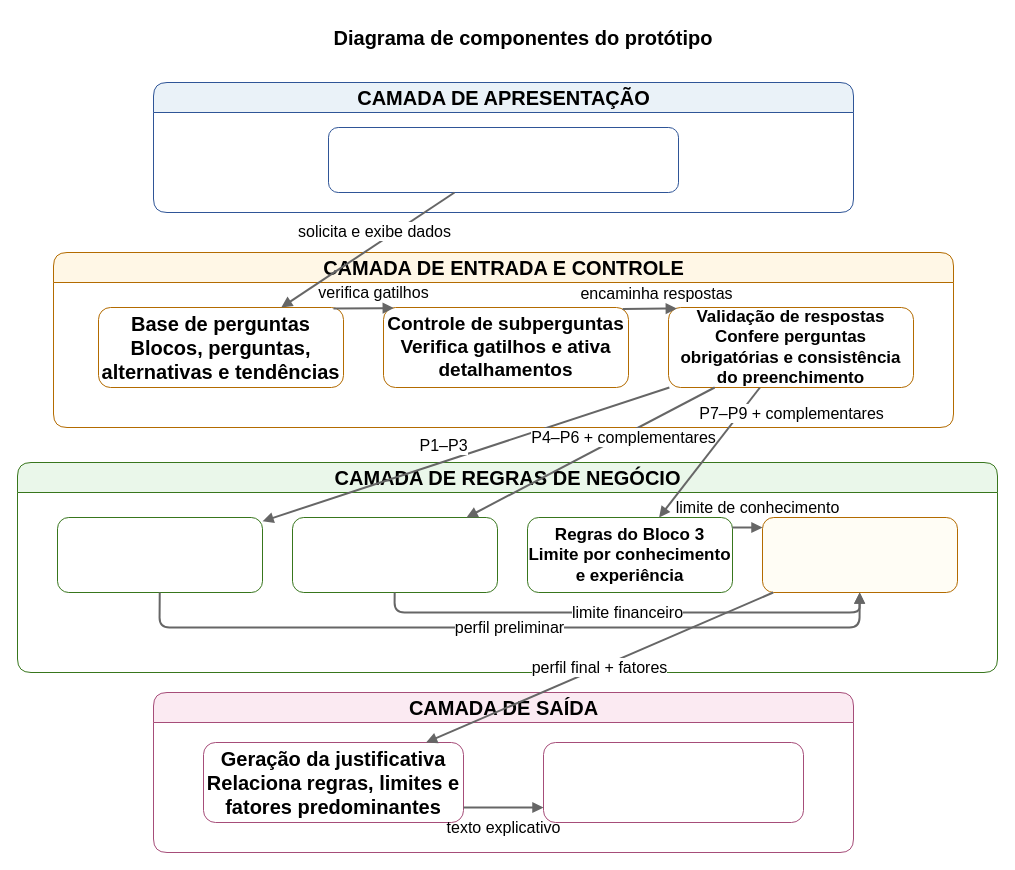
The diagram is 1015 pixels wide and 870 high, and some of its shapes have lost their labels. Each missing label, with the centre of its shape:
Apresentação do resultado Perfil final e explicação ao usuário: (673,782)
Consolidação do perfil Compara perfil preliminar e limites aplicados: (860,554)
Interface Streamlit Apresenta perguntas, coleta respostas e exibe o resultado: (503,159)
Regras do Bloco 1 Perfil preliminar: (159,554)
Regras do Bloco 2 Limite financeiro: (395,554)
